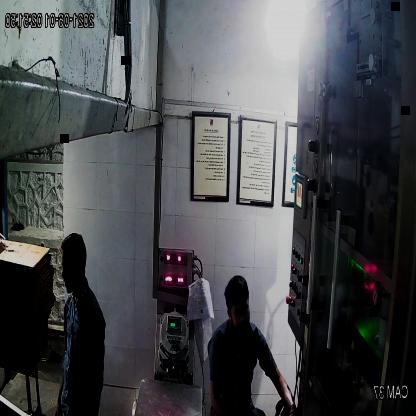no_goggles: (226, 300, 254, 322)
